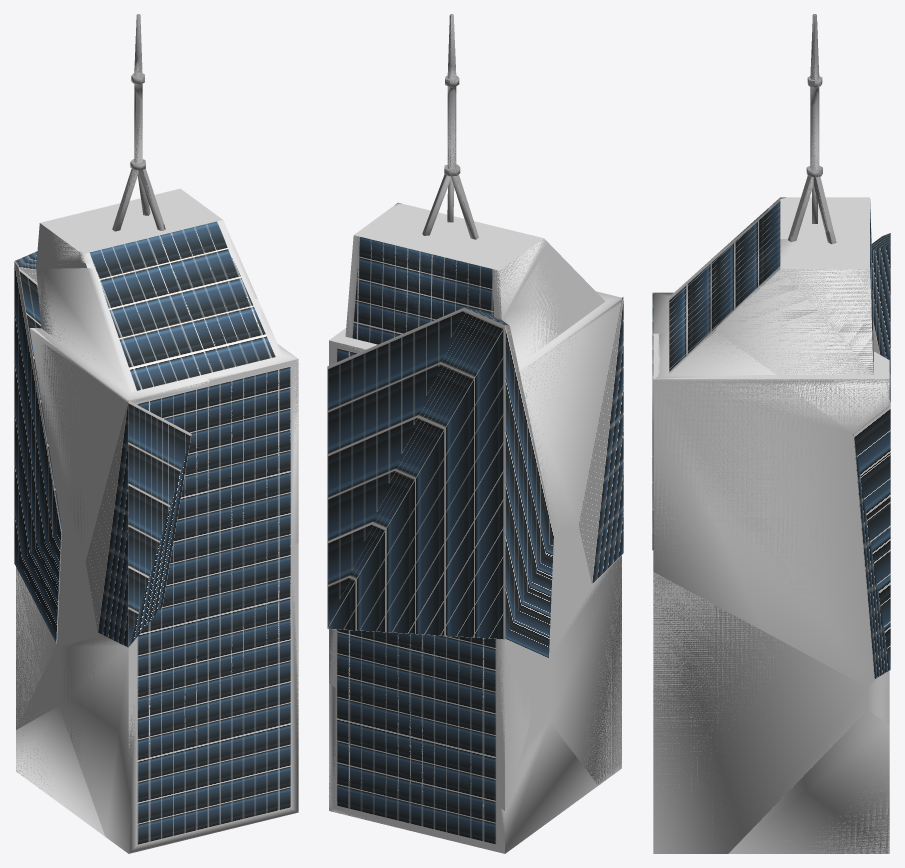
Rendered from debri7.fbx.
The picture shows the model from 3 angles, left to right: view 1: azimuth 30°, elevation 25°; view 2: azimuth 150°, elevation 25°; view 3: azimuth 270°, elevation 25°; orthographic projection. The views are drawn at different scales.
Parts seen in each view (by area): view 1: polySurface9, polySurface9_cell.013, polySurface9_cell.009, polySurface9_cell.010, polySurface9_cell.002, polySurface9_cell.005, polySurface9_cell.006, polySurface9_cell.011, polySurface9_cell.001, polySurface9_cell.012, polySurface9_cell.003; view 2: polySurface9_cell.005, polySurface9, polySurface9_cell.010, polySurface9_cell.011, polySurface9_cell.013, polySurface9_cell.006, polySurface9_cell.001, polySurface9_cell.002, polySurface9_cell.012, polySurface9_cell.003; view 3: polySurface9_cell.009, polySurface9, polySurface9_cell.013, polySurface9_cell.006, polySurface9_cell.011, polySurface9_cell.005, polySurface9_cell.010, polySurface9_cell.001, polySurface9_cell.003, polySurface9_cell.012, polySurface9_cell.002.
Boxes of the visible parts, x1,y1,x2,y2 form: polySurface9: (16,14,298,788); polySurface9_cell.013: (58,574,298,853); polySurface9_cell.009: (162,305,298,605); polySurface9_cell.010: (29,268,209,556); polySurface9_cell.002: (85,400,191,647); polySurface9_cell.005: (14,251,61,643); polySurface9_cell.006: (143,209,257,313); polySurface9_cell.011: (16,706,105,836); polySurface9_cell.001: (16,567,56,725); polySurface9_cell.012: (51,169,162,265); polySurface9_cell.003: (130,88,145,170); polySurface9_cell.005: (327,307,553,658); polySurface9: (329,14,621,853); polySurface9_cell.010: (502,259,621,530); polySurface9_cell.011: (329,683,597,853); polySurface9_cell.013: (549,555,621,785); polySurface9_cell.006: (335,202,481,357); polySurface9_cell.001: (329,629,549,810); polySurface9_cell.002: (579,297,623,584); polySurface9_cell.012: (427,174,541,319); polySurface9_cell.003: (444,91,460,176); polySurface9_cell.009: (653,303,874,686); polySurface9: (653,14,889,853); polySurface9_cell.013: (653,572,867,853); polySurface9_cell.006: (716,231,889,433); polySurface9_cell.011: (728,710,889,853); polySurface9_cell.005: (853,233,890,679); polySurface9_cell.010: (653,208,768,333); polySurface9_cell.001: (867,671,889,724); polySurface9_cell.003: (806,91,821,177); polySurface9_cell.012: (792,177,828,236); polySurface9_cell.002: (652,292,653,550).
Bounding box in the file's own units: 953 × 4038 × 1095.
